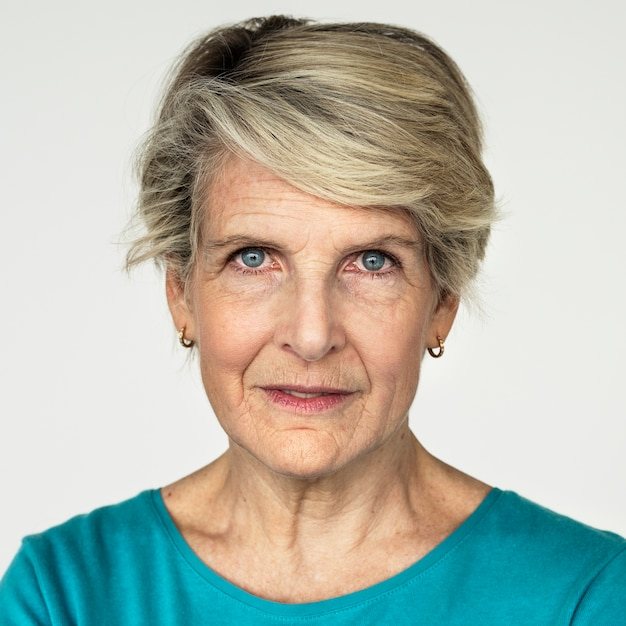young: (137, 46, 481, 474)
